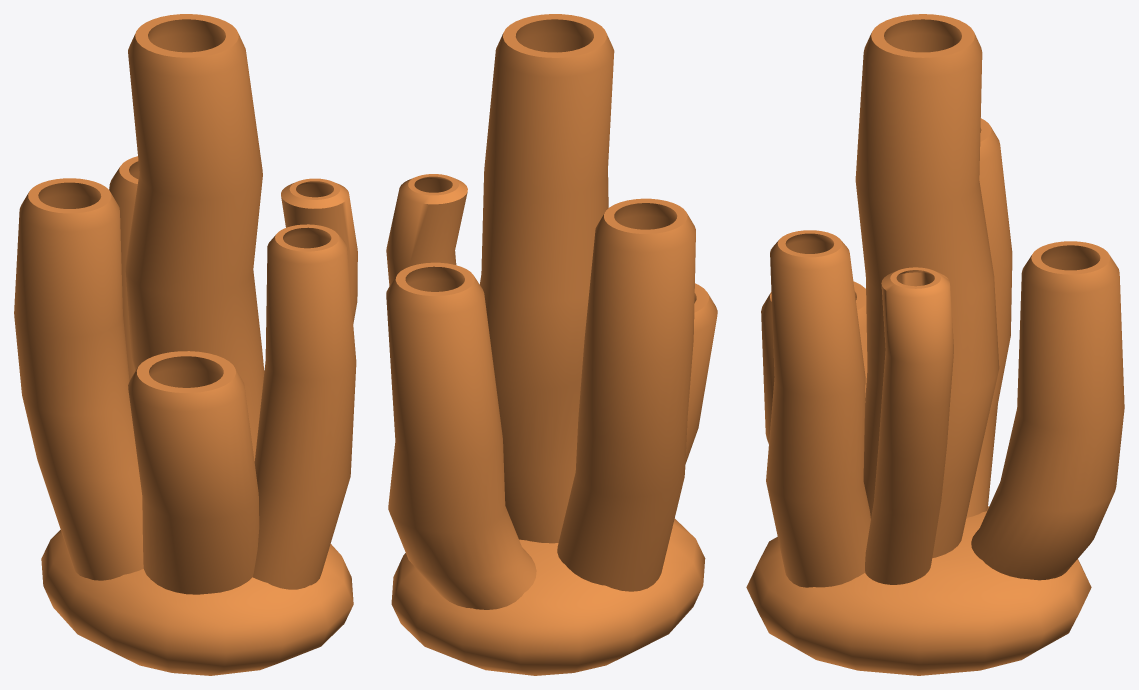
File: TubeCoral (1).fbx
3 renders of one model, left to right at view 1: azimuth 30°, elevation 25°; view 2: azimuth 150°, elevation 25°; view 3: azimuth 270°, elevation 25°, orthographic.
Parts seen in each view (by area): view 1: TubeCoral_LOD0; view 2: TubeCoral_LOD0; view 3: TubeCoral_LOD0.
Boxes of the visible parts, left/top/right/bottom form: TubeCoral_LOD0: left=14, top=14, right=357, bottom=675; TubeCoral_LOD0: left=386, top=14, right=717, bottom=675; TubeCoral_LOD0: left=746, top=14, right=1124, bottom=675.
Size of what is drawn, in the model's own units: 58.02 by 107 by 60.58.
